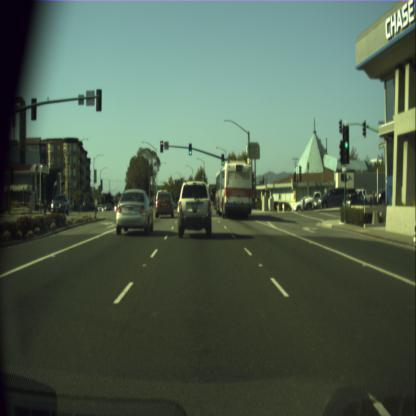Green: (342, 124, 350, 164), (188, 142, 192, 156), (221, 153, 224, 165)
Red: (160, 140, 162, 152)
